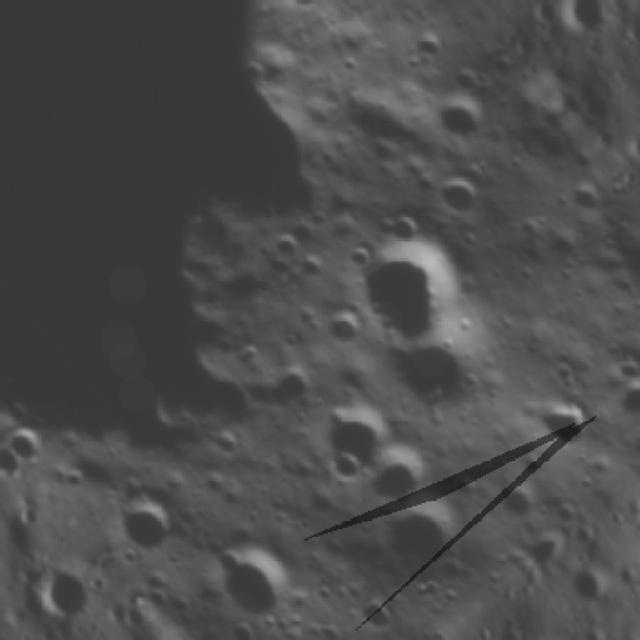crater: (339, 205, 503, 369), (378, 312, 499, 434), (203, 519, 319, 635), (368, 486, 467, 585), (108, 480, 194, 569), (314, 390, 400, 472), (354, 435, 438, 517), (432, 155, 508, 231), (427, 81, 501, 154), (531, 392, 597, 459), (134, 591, 220, 640), (488, 473, 542, 527), (316, 300, 370, 354), (534, 226, 588, 280), (349, 587, 402, 639), (560, 172, 611, 222), (404, 21, 454, 70), (4, 422, 51, 469), (265, 366, 312, 412), (447, 56, 493, 101), (547, 490, 591, 532), (322, 448, 364, 492), (219, 607, 271, 640), (264, 224, 305, 265), (614, 376, 640, 438), (523, 521, 565, 559), (291, 250, 329, 288), (272, 0, 336, 22), (276, 320, 310, 354), (58, 464, 91, 496), (119, 541, 148, 573), (612, 350, 640, 382), (340, 51, 366, 77), (507, 555, 530, 576)
